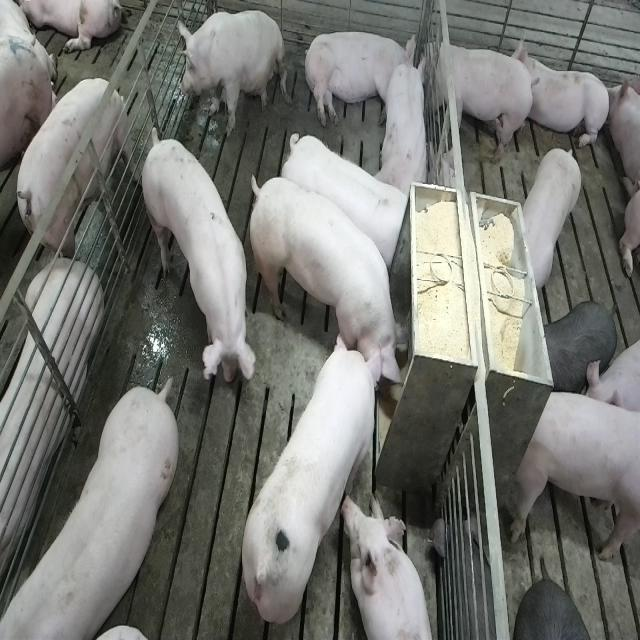Feeding: (240, 332, 389, 624), (252, 173, 416, 400)
Lateral_lying: (302, 28, 418, 128)
Sitting: (176, 7, 285, 137)
Standing: (0, 382, 176, 640), (137, 130, 251, 401), (508, 385, 638, 567), (9, 77, 131, 264), (280, 128, 410, 267), (422, 30, 535, 168), (516, 142, 584, 292), (540, 297, 620, 399)
Sternal_lying: (0, 261, 101, 597), (346, 493, 437, 640), (520, 34, 612, 154), (378, 47, 433, 201)
